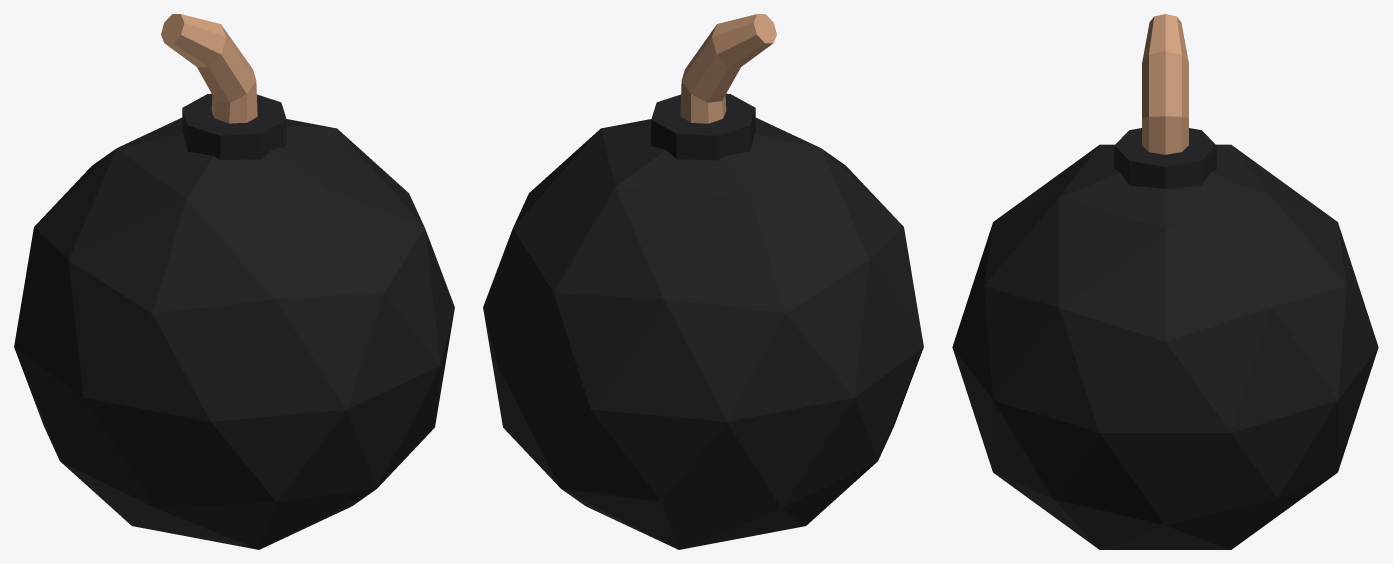
The model's file is bomb.fbx.
3 renders of one model, left to right at view 1: azimuth 30°, elevation 25°; view 2: azimuth 150°, elevation 25°; view 3: azimuth 270°, elevation 25°, orthographic. The views are drawn at different scales.
Parts seen in each view (by area): view 1: Icosphere; view 2: Icosphere; view 3: Icosphere.
Part boxes in pixels (x1,y1,x2,y2): Icosphere: [14, 14, 454, 549]; Icosphere: [483, 14, 923, 549]; Icosphere: [952, 14, 1378, 549].
Bounding box in the file's own units: 190 × 260 × 200.
